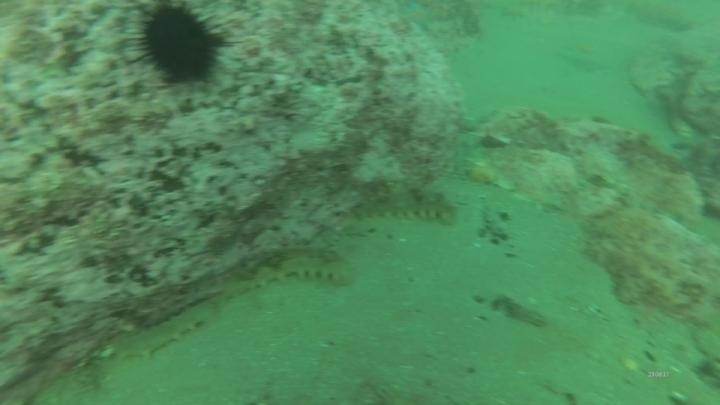echinus: (128, 2, 231, 88)
holothurian: (217, 244, 358, 296), (109, 300, 219, 364), (341, 182, 462, 230)
